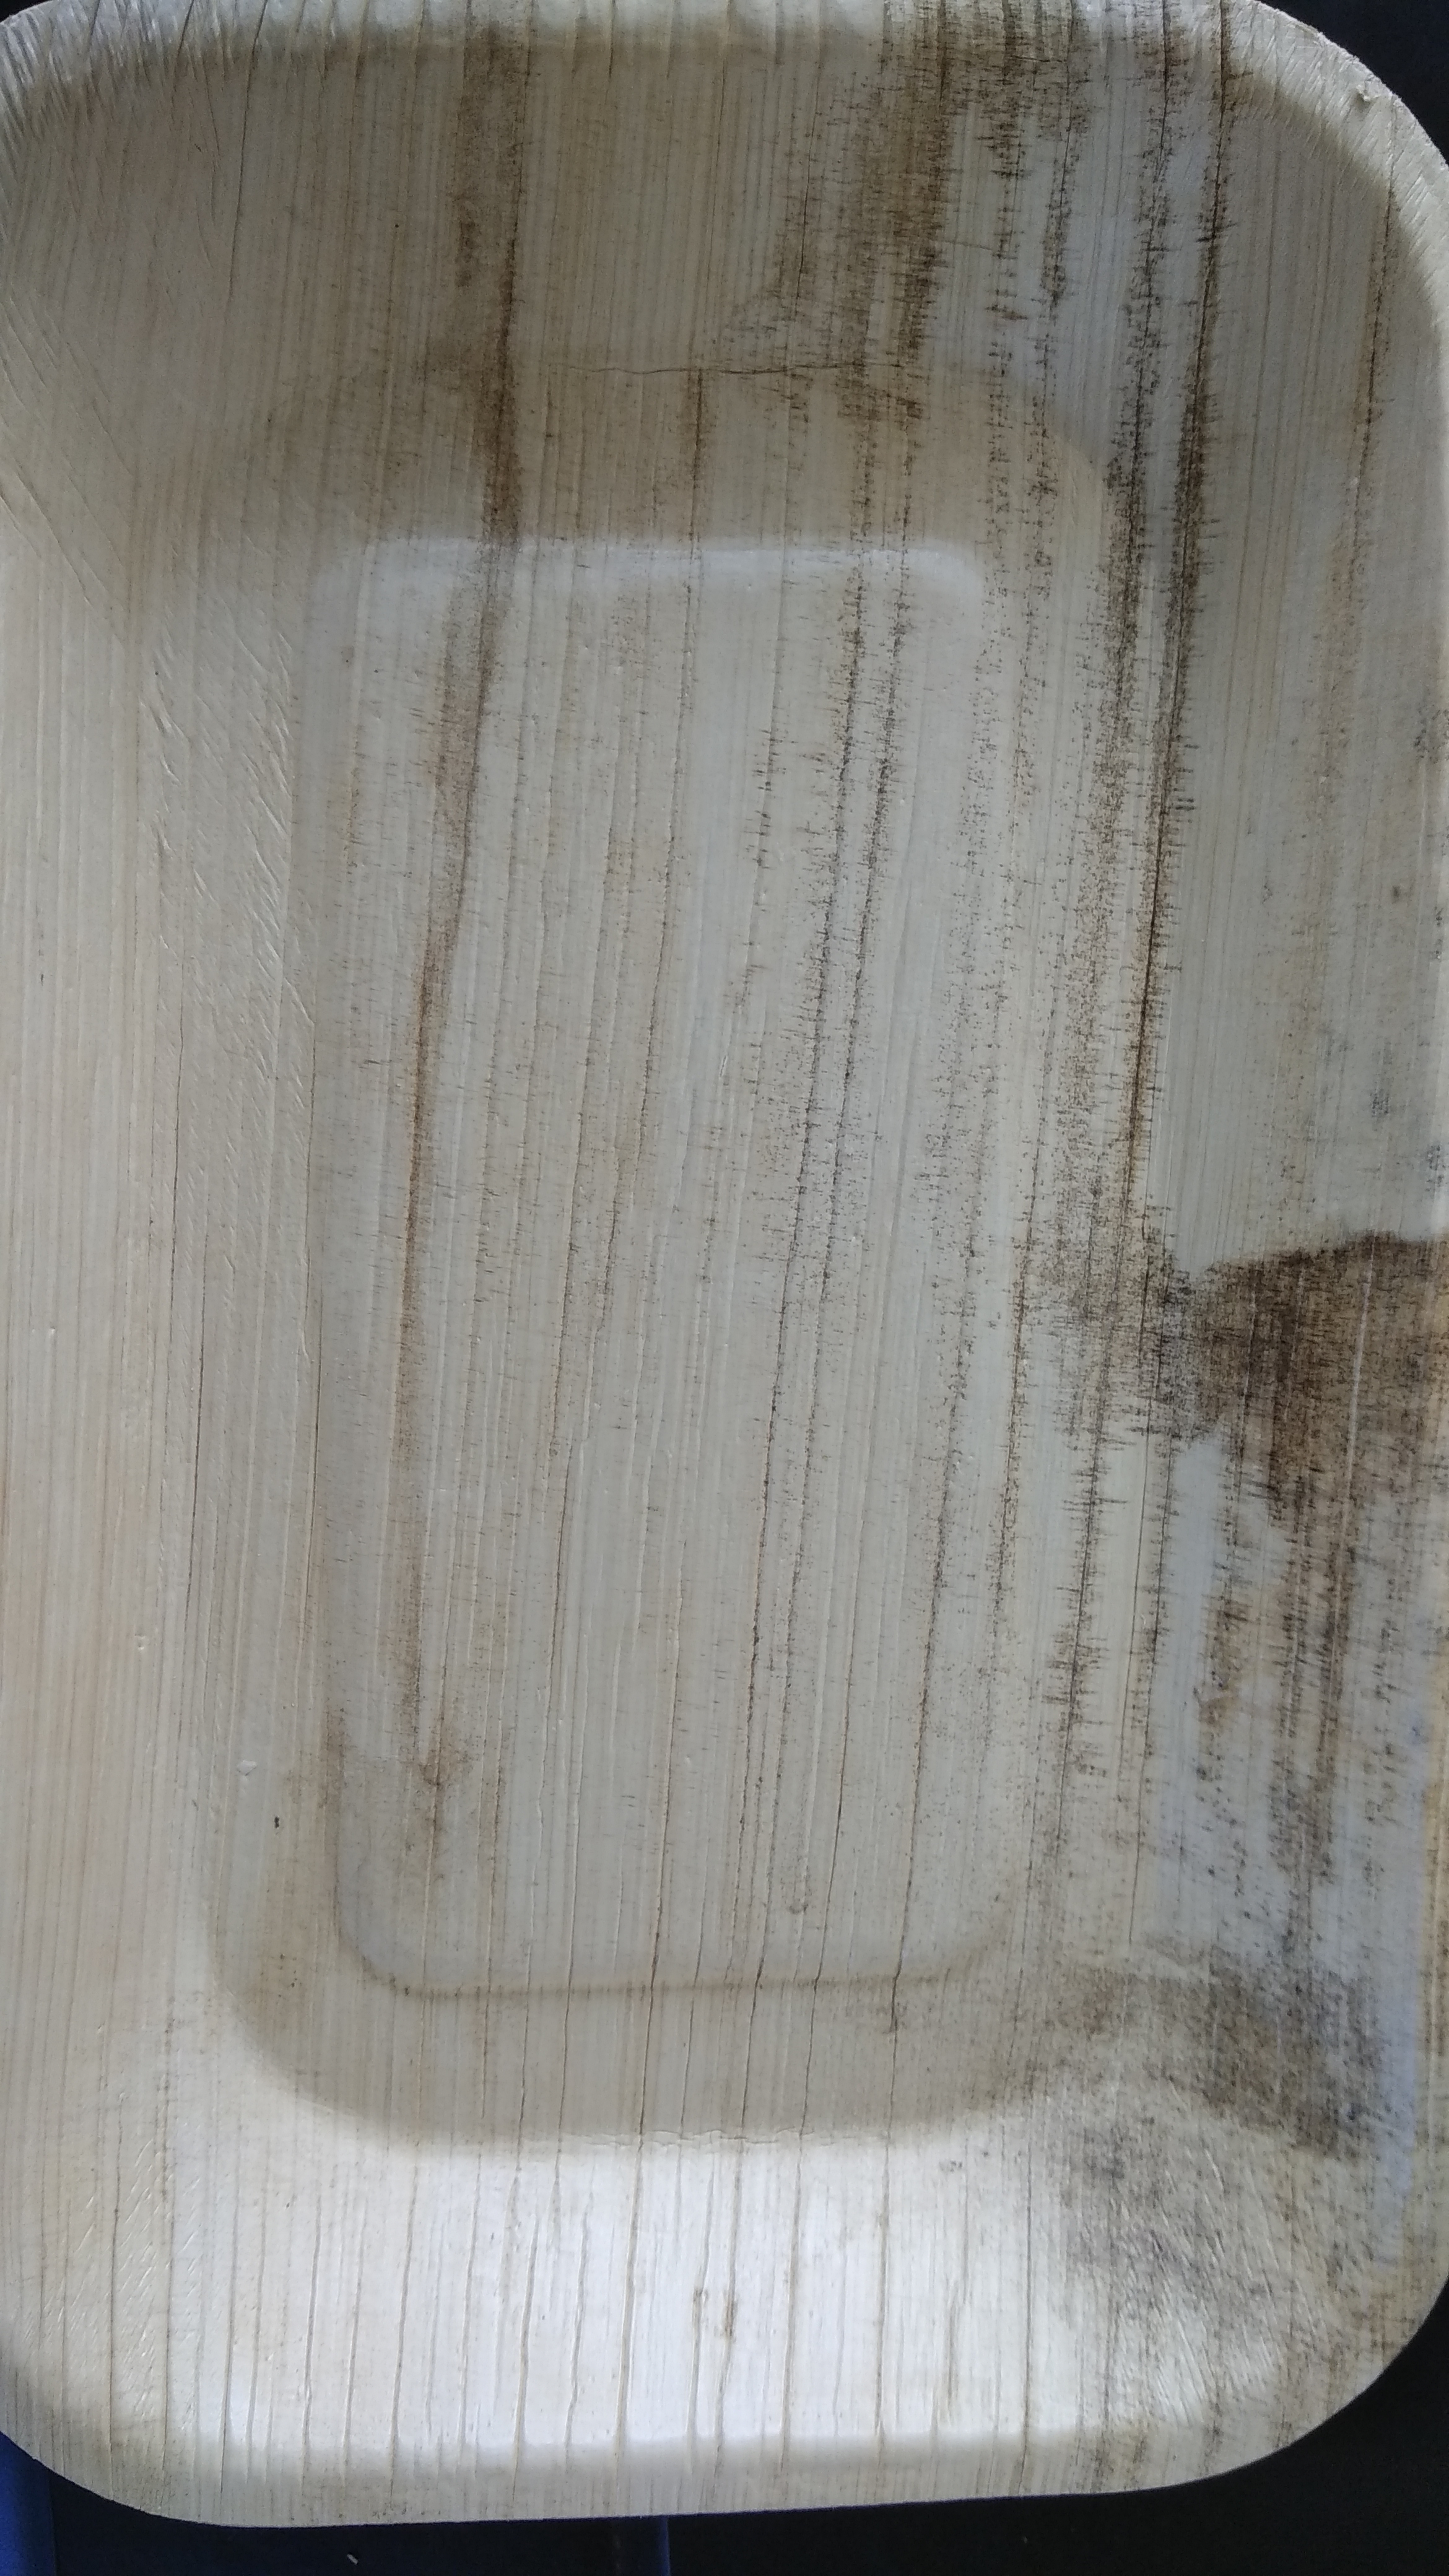areca plate: (9, 41, 1437, 2477)
